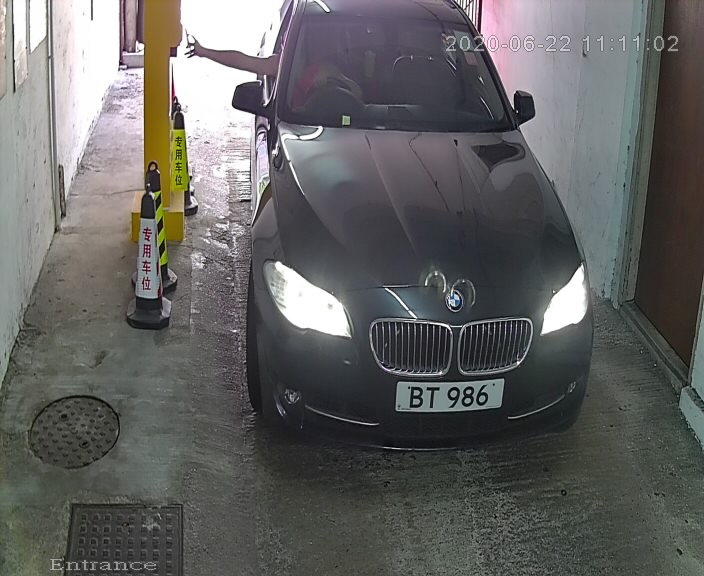privatecar: (228, 1, 604, 452)
